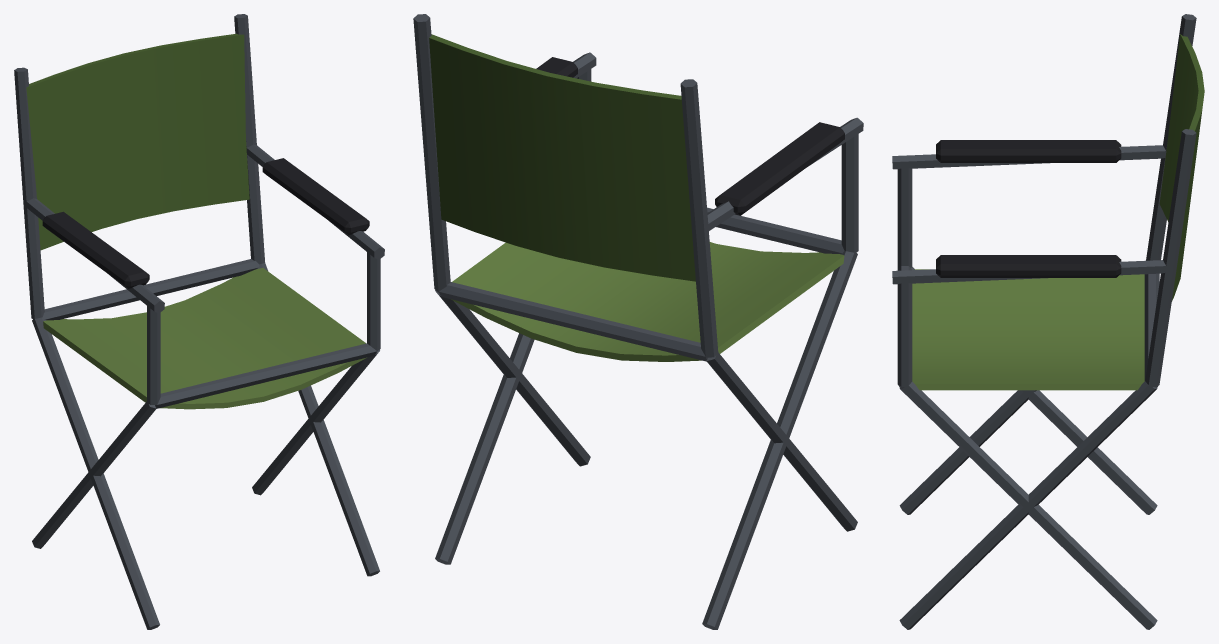
The model's file is SM_Folding_Chair.glb.
The picture shows the model from 3 angles, left to right: view 1: azimuth 30°, elevation 25°; view 2: azimuth 150°, elevation 25°; view 3: azimuth 270°, elevation 25°; orthographic projection. The views are drawn at different scales.
Visible parts, largest first — view 1: SM_Folding_Chair; view 2: SM_Folding_Chair; view 3: SM_Folding_Chair.
Boxes of the visible parts, left/top/right/bottom form: SM_Folding_Chair: left=14, top=14, right=384, bottom=629; SM_Folding_Chair: left=413, top=14, right=863, bottom=629; SM_Folding_Chair: left=892, top=14, right=1204, bottom=629.
Bounding box in the file's own units: 0.49 × 0.8898 × 0.5055.
1 material, 1 textured.
